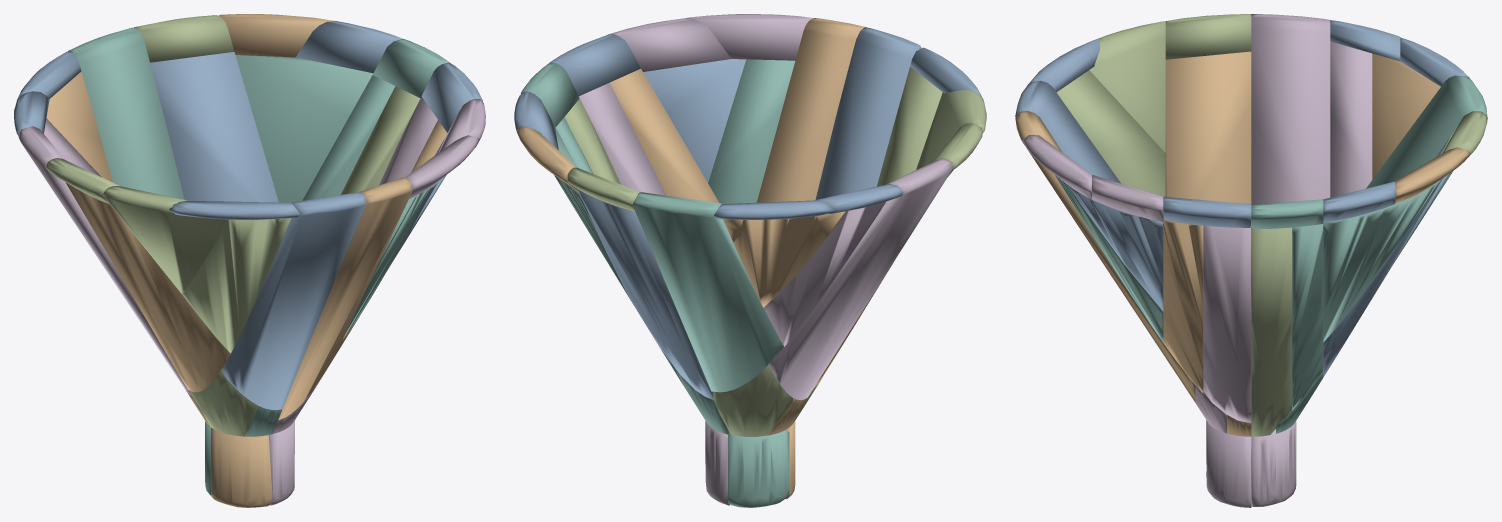
3 views of the same model, side by side, from view 1: azimuth 30°, elevation 25°; view 2: azimuth 150°, elevation 25°; view 3: azimuth 270°, elevation 25° (orthographic).
Size of the model in its own units: 1.51 by 1.34 by 1.51.
